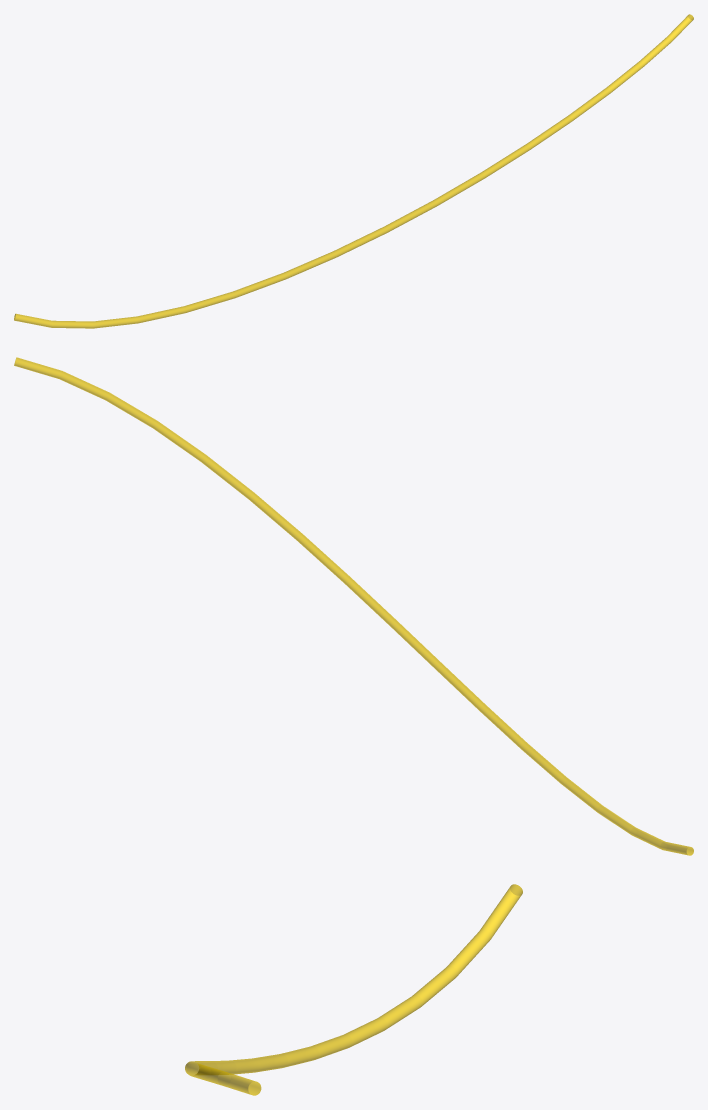
Rendered from Event_27938768_track_46.fbx.
3 renders of one model, top to bottom at view 1: azimuth 30°, elevation 25°; view 2: azimuth 150°, elevation 25°; view 3: azimuth 270°, elevation 25°, orthographic. The views are drawn at different scales.
Visible parts, largest first — view 1: Model; view 2: Model; view 3: Model.
Part boxes in pixels (<box>): Model: <box>14,14,693,328</box>; Model: <box>14,357,693,855</box>; Model: <box>185,884,522,1095</box>.
Size of the model in its own units: 3.95 by 1.33 by 0.9421.
